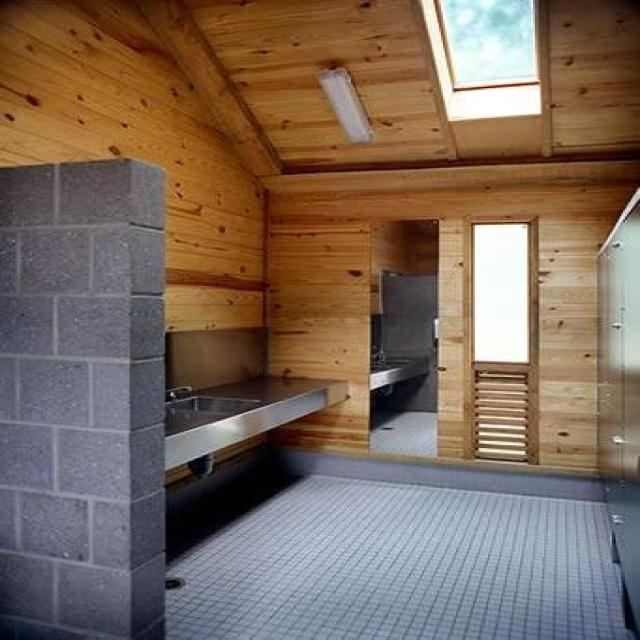door: (593, 186, 638, 639)
faucet: (165, 385, 192, 401)
indoor-plant: (0, 0, 638, 639)
rugs: (163, 471, 638, 638)
stairs: (471, 367, 529, 462)
windows: (414, 0, 542, 122), (469, 221, 531, 364)
